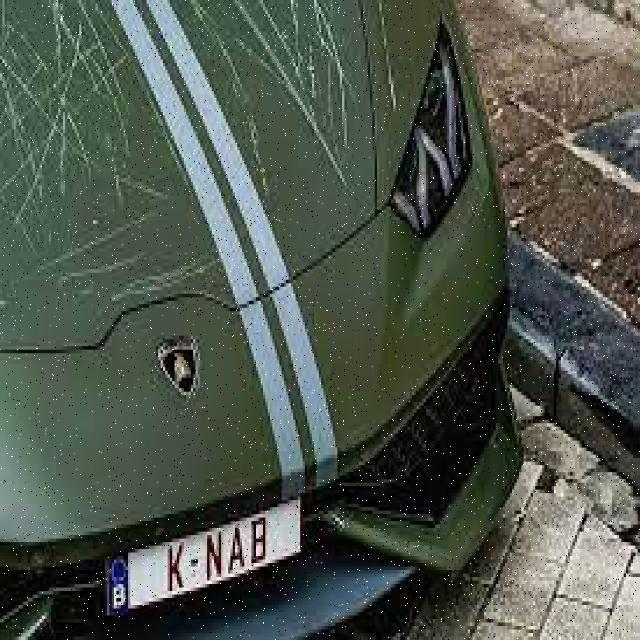headlight: (0, 3, 508, 476)
